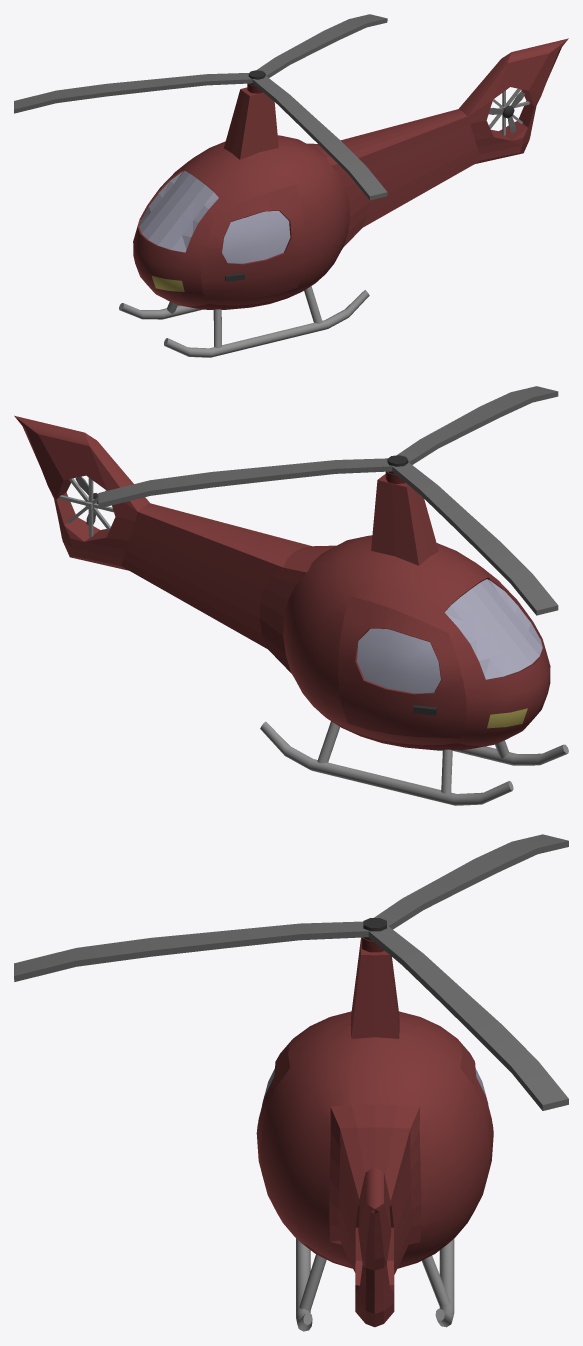
Rendered from Helicopter.FBX.
3 views of the same model, one above another, from view 1: azimuth 30°, elevation 25°; view 2: azimuth 150°, elevation 25°; view 3: azimuth 270°, elevation 25° (orthographic). The views are drawn at different scales.
Visible parts, largest first — view 1: Cylinder001, LeftDoor, Rotor, FrontWindow; view 2: Cylinder001, RightDoor, Rotor, FrontWindow; view 3: Cylinder001, Rotor, RightDoor, LeftDoor.
Boxes of the visible parts, box(x1,y1,x2,y2) form: Cylinder001: box(119, 38, 568, 357); LeftDoor: box(201, 184, 305, 299); Rotor: box(14, 14, 387, 200); FrontWindow: box(139, 171, 218, 252); Cylinder001: box(14, 415, 568, 805); RightDoor: box(338, 596, 466, 737); Rotor: box(98, 386, 558, 615); FrontWindow: box(444, 579, 542, 679); Cylinder001: box(260, 937, 489, 1331); Rotor: box(14, 834, 568, 1110); RightDoor: box(458, 1039, 493, 1173); LeftDoor: box(256, 1039, 292, 1172).
Size of the model in its own units: 218 by 104 by 141.
